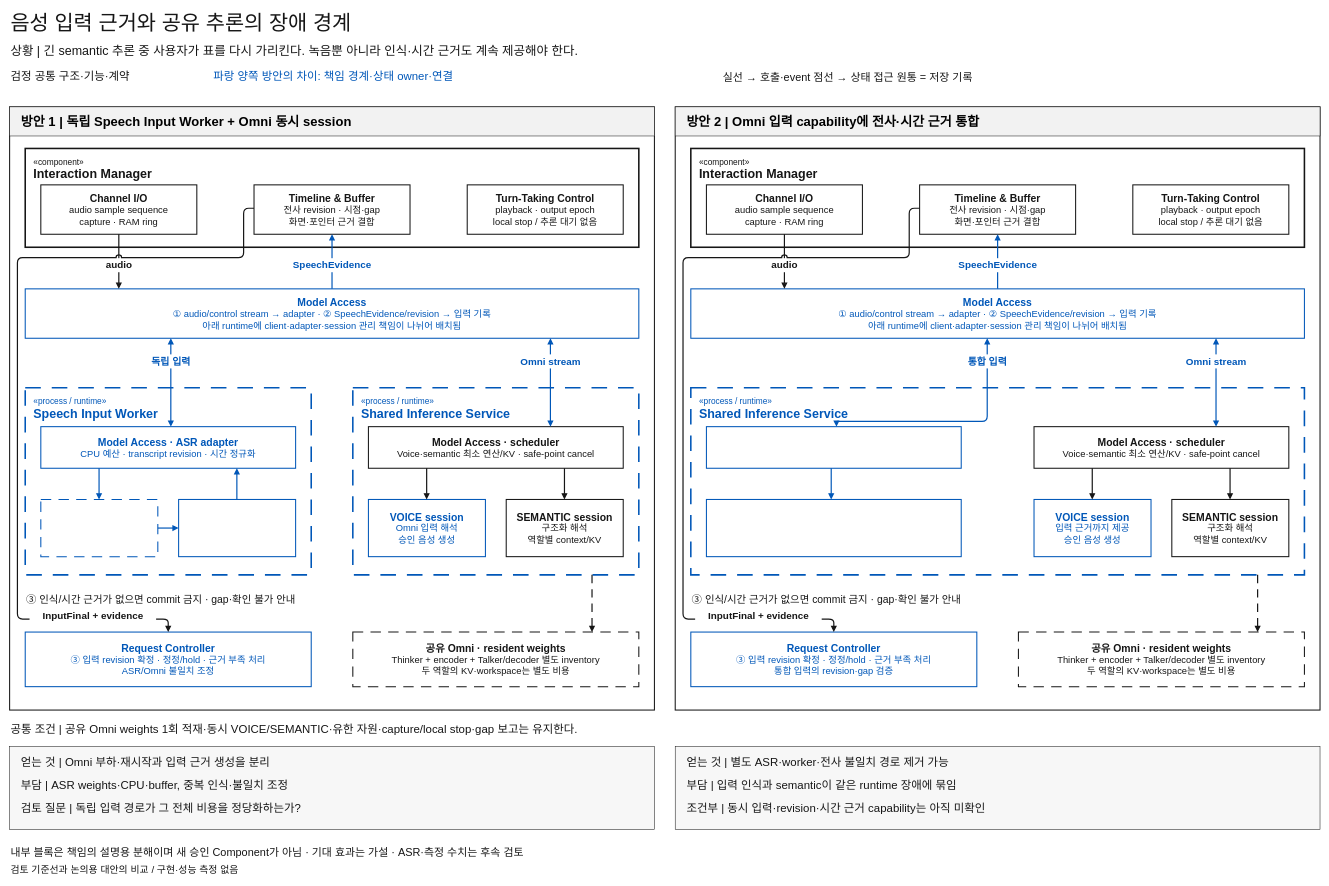
Image size: 1329x886. Some labels were removed from this diagram. Here are the shapes that lost their labels. From the top down, the centre of each, then its label:
the point at 833,447: 필수 Omni 입력 capability 전사 revision · span timing·오차 · gap
the point at 99,528: Streaming ASR 독립 경량 dependency weights · 인식 오류
the point at 237,528: 입력 근거 buffer partial / final span timing · gap
the point at 833,528: 통합 입력 근거 상태 상세 SpeechEvidence 제공 필요 별도 ASR fallback을 숨겨 추가하지 않음
